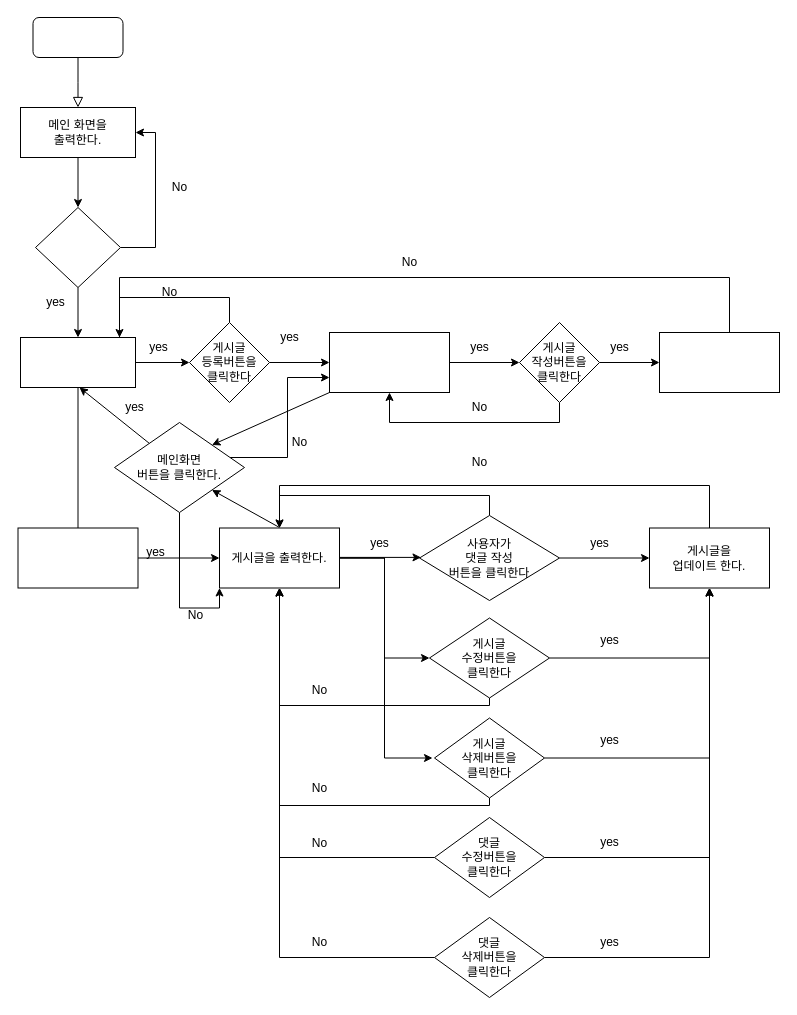
Some shapes in this 797 by 1015 pixel diagram are drawn without their labels. Each missing label, with the centre of its shape:
로그인 요청을 한다: (x=77, y=247)
메인 화면으로 돌아간다.: (x=78, y=362)
사용자: (x=77, y=37)
사용자가 게시글 작성 화면을 출력한다.: (x=389, y=362)
사용자가 게시글을 조회한다.: (x=77, y=557)
사용자는 게시글을 등록한다: (x=719, y=362)
